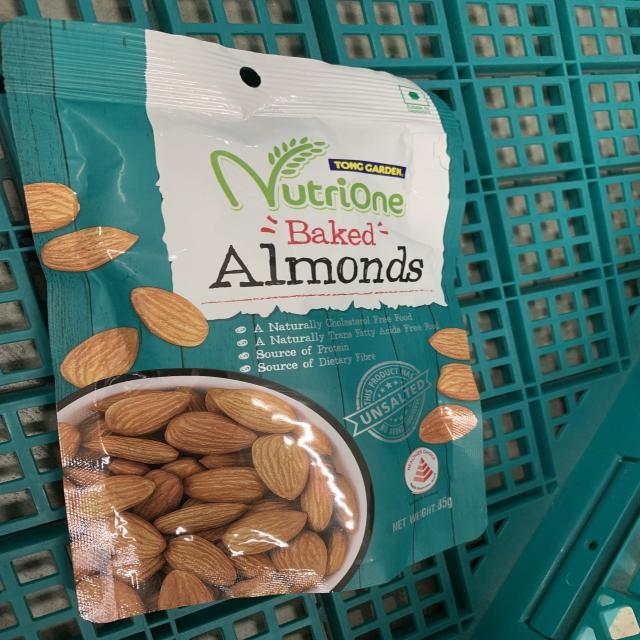object_name: (11, 34, 491, 600)
